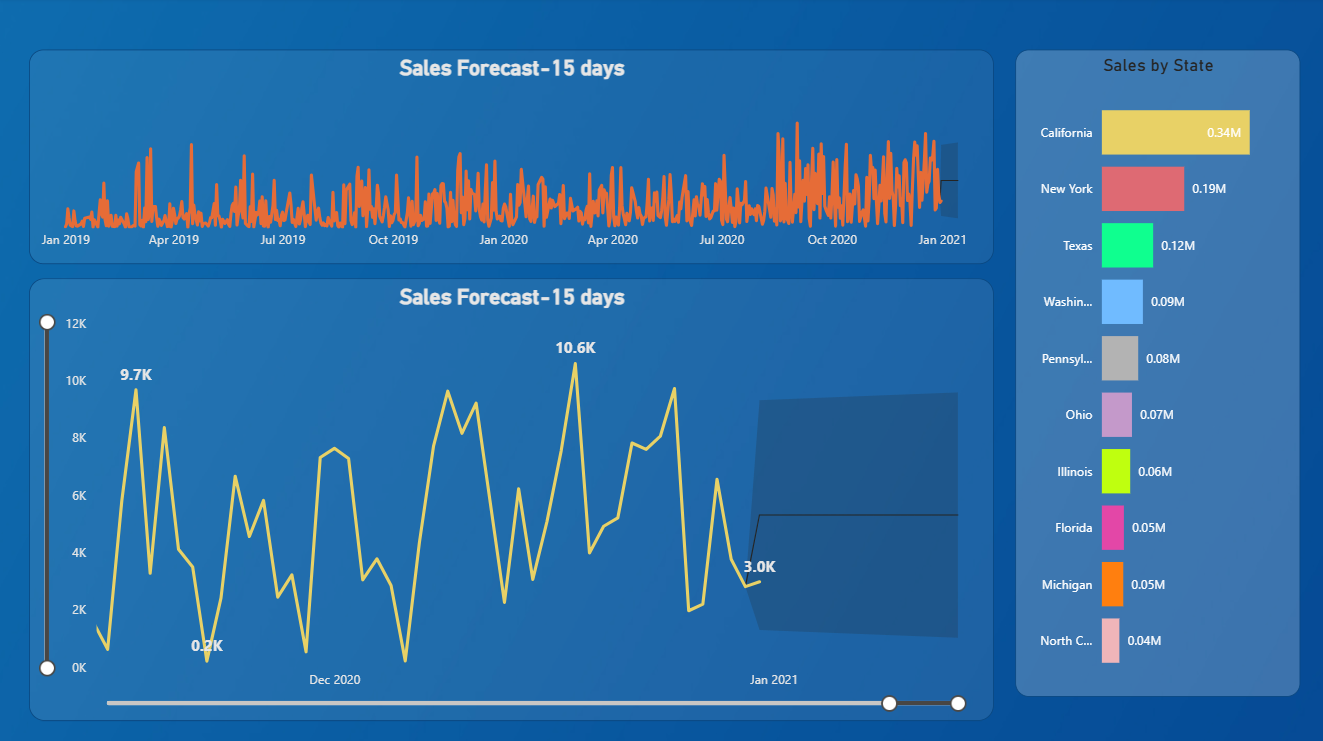

This screenshot's page, from the dashboard's own definition file:
{"tool":"powerbi","page":{"name":"Page 2","canvas":[1280,720],"ordinal":1},"visuals":[{"type":"lineChart","title":" Sales  Forecast-15 days","fields":{"Y":["Sum(SuperStore_Sales_Dataset.Sales)"],"Category":["SuperStore_Sales_Dataset.Order Date"]},"box":[29,50.7,931.4,207.5],"z":0},{"type":"lineChart","title":" Sales Forecast-15 days","fields":{"Y":["Sum(SuperStore_Sales_Dataset.Sales)"],"Category":["SuperStore_Sales_Dataset.Order Date"]},"box":[29,271.4,931.4,427.1],"z":1000},{"type":"clusteredBarChart","title":"Sales by State","fields":{"Category":["SuperStore_Sales_Dataset.State"],"Y":["Sum(SuperStore_Sales_Dataset.Sales)"]},"box":[980.8,50.7,275.1,624.9],"z":2000}]}

Visuals, with their boxes in screenshot pixels (x1, y1, x2, y2), scaled from the page's 1280x720 canvas onto the 1323x741 screenshot:
" Sales  Forecast-15 days" lineChart: (x1=30, y1=52, x2=993, y2=266)
" Sales Forecast-15 days" lineChart: (x1=30, y1=279, x2=993, y2=719)
"Sales by State" clusteredBarChart: (x1=1014, y1=52, x2=1298, y2=695)
